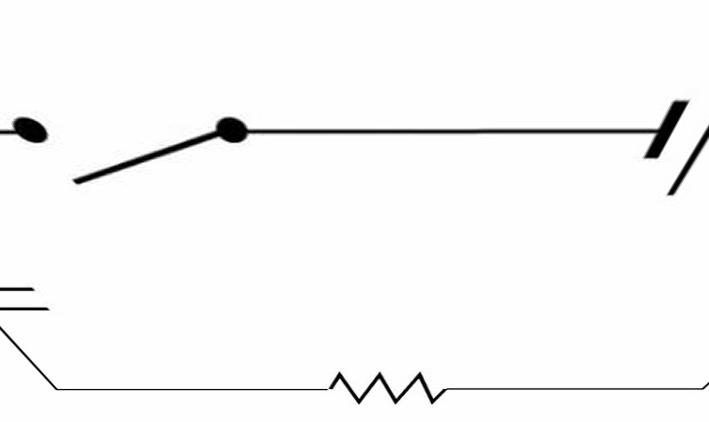resistor: (298, 338, 468, 412)
